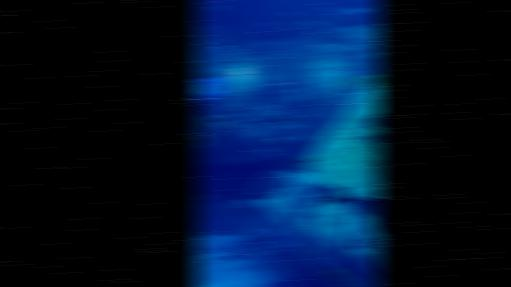Fish: (341, 197, 382, 234), (323, 8, 376, 23), (323, 269, 358, 286), (322, 186, 352, 205), (201, 114, 242, 127), (193, 84, 224, 97), (340, 76, 365, 87), (231, 199, 258, 208), (364, 75, 381, 88), (363, 133, 382, 144), (299, 20, 328, 27), (298, 157, 319, 166), (367, 115, 382, 127), (273, 112, 290, 122), (352, 237, 367, 248), (213, 123, 234, 129), (193, 135, 208, 143), (308, 245, 321, 254), (291, 77, 302, 87), (267, 97, 278, 105), (197, 194, 210, 199), (279, 25, 292, 30), (260, 22, 275, 26), (209, 6, 224, 10), (284, 13, 297, 16), (216, 39, 224, 43), (372, 74, 381, 77)
